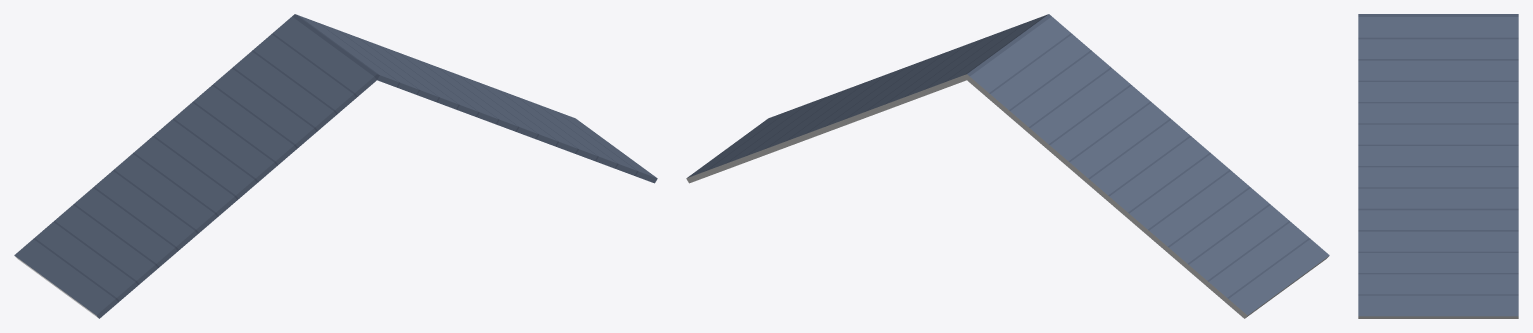
File: Roof4_C4_03.fbx
The picture shows the model from 3 angles, left to right: view 1: azimuth 30°, elevation 25°; view 2: azimuth 150°, elevation 25°; view 3: azimuth 270°, elevation 25°; orthographic projection. The views are drawn at different scales.
Parts seen in each view (by area): view 1: Roof4_C4_03; view 2: Roof4_C4_03; view 3: Roof4_C4_03.
Part boxes in pixels (x1=…): Roof4_C4_03: x1=14, y1=14, x2=657, y2=318; Roof4_C4_03: x1=686, y1=14, x2=1329, y2=318; Roof4_C4_03: x1=1358, y1=14, x2=1518, y2=318.
Bounding box in the file's own units: 1105 × 333 × 280.
